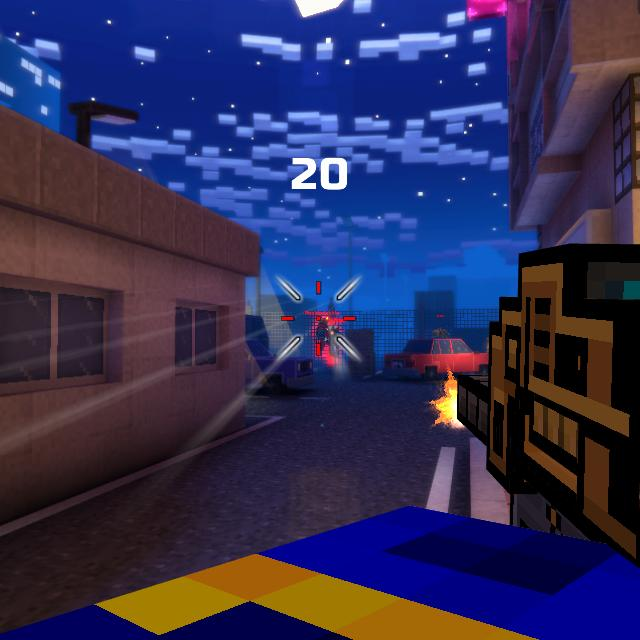Enemy: (316, 317, 338, 357)
